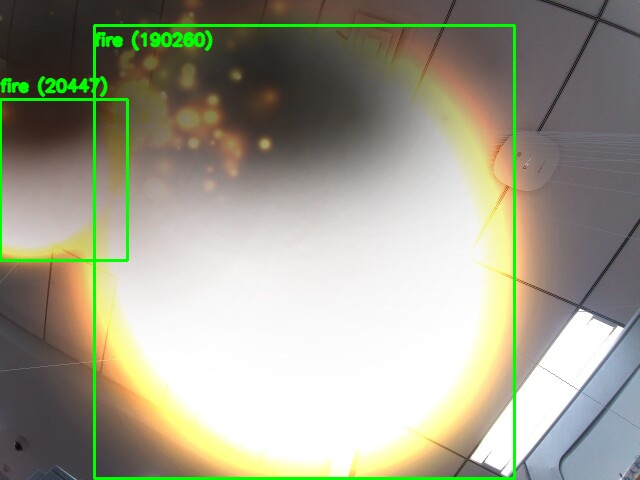fire: (94, 25, 514, 478), (0, 99, 127, 260)
